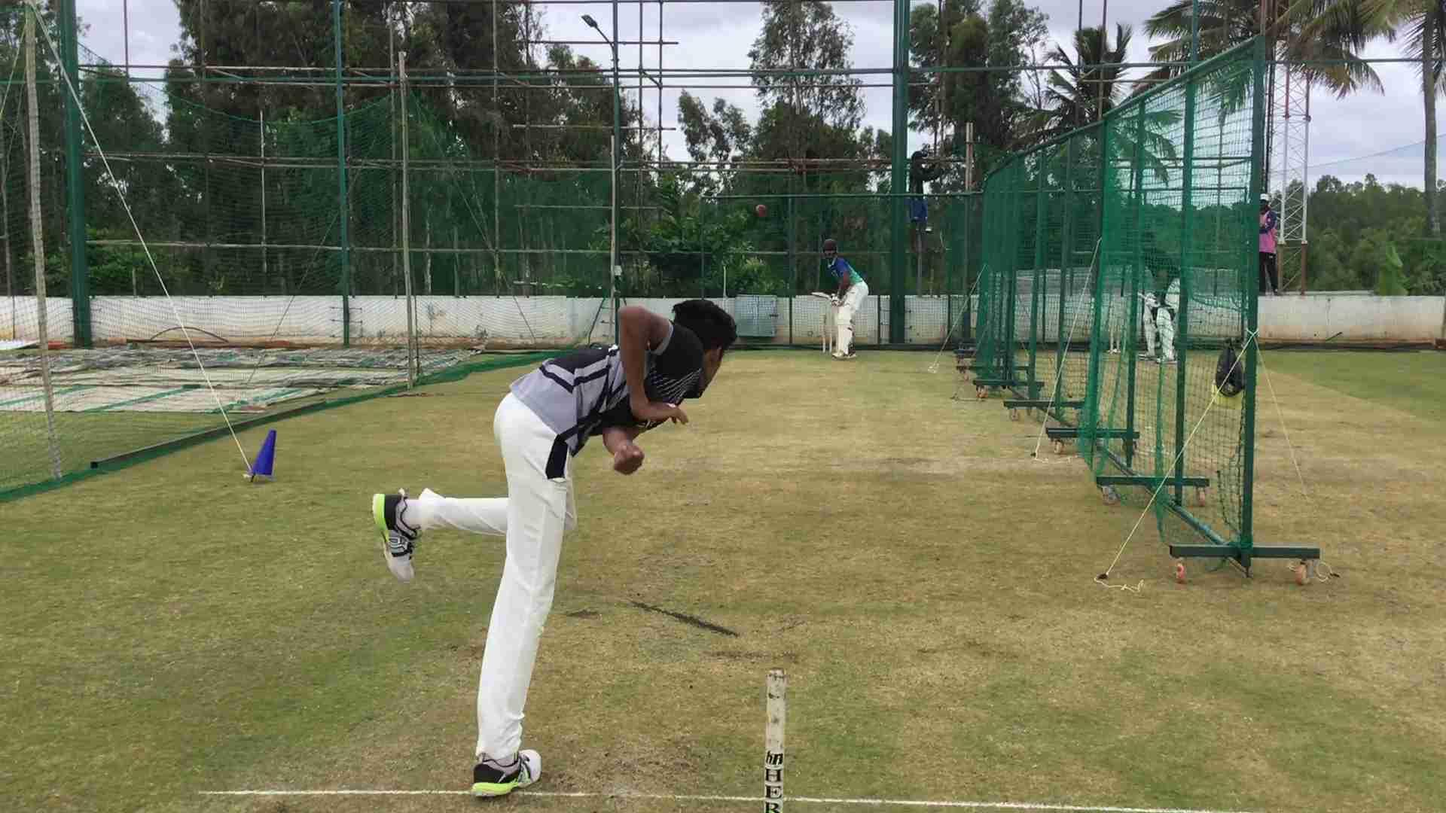batsman: (805, 239, 880, 358)
